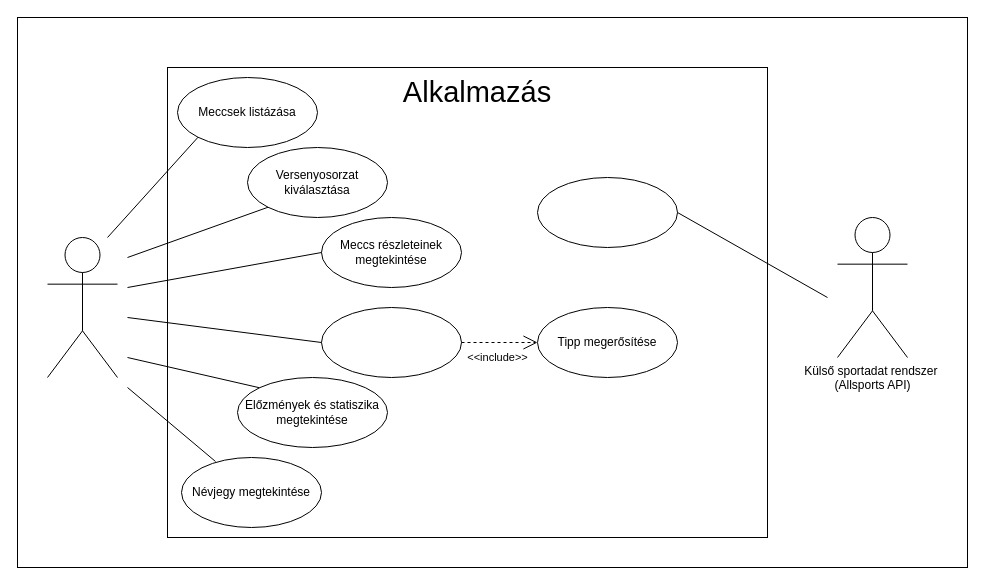
Some shapes in this 985 by 585 pixel diagram are drawn without their labels. The shapes that lost their labels are listed below. From the top down, each one's centre as x and y in pixels, then its label:
[607,212]: Meccsadatok szinkronizálása
[82,307]: Felhasználó
[391,342]: Tipp leadása
